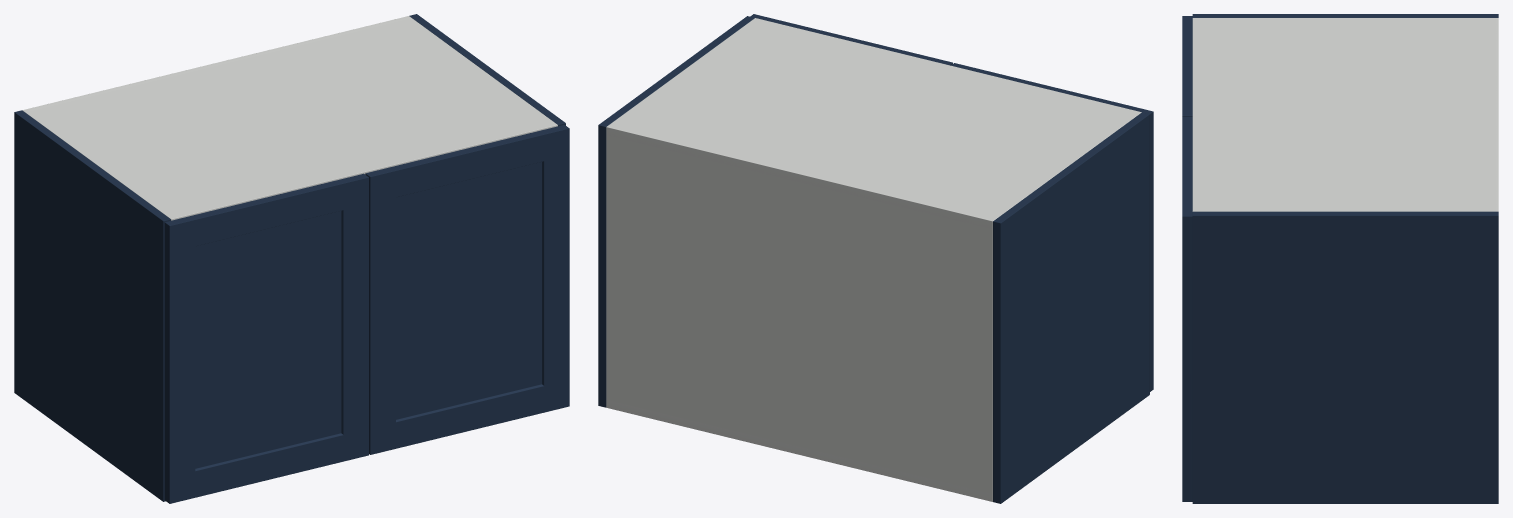
The model's file is oppein-pb-bss-w362424.glb.
3 renders of one model, left to right at view 1: azimuth 30°, elevation 25°; view 2: azimuth 150°, elevation 25°; view 3: azimuth 270°, elevation 25°, orthographic. The views are drawn at different scales.
Visible parts, largest first — view 1: Door, Door.001, Cabinet top, Cabinet side, Cabinet side.001, Cabinet back; view 2: Cabinet back, Cabinet top, Cabinet side, Cabinet side.001, Cabinet bottom, Door, Door.001; view 3: Cabinet side.001, Cabinet top, Door.001, Cabinet side, Cabinet back, Door.
Part boxes in pixels (box(x1,y1,x2,y2)): Door: box(164, 173, 368, 503); Door.001: box(365, 125, 569, 454); Cabinet top: box(22, 18, 557, 220); Cabinet side: box(14, 110, 170, 501); Cabinet side.001: box(409, 14, 565, 126); Cabinet back: box(23, 16, 411, 111); Cabinet back: box(606, 125, 995, 501); Cabinet top: box(606, 18, 1141, 228); Cabinet side: box(993, 112, 1149, 503); Cabinet side.001: box(598, 16, 754, 407); Cabinet bottom: box(606, 400, 992, 501); Door: box(951, 63, 1153, 391); Door.001: box(750, 14, 952, 65); Cabinet side.001: box(1192, 211, 1498, 503); Cabinet top: box(1192, 18, 1498, 211); Door.001: box(1182, 116, 1192, 501); Cabinet side: box(1192, 14, 1498, 17); Cabinet back: box(1493, 18, 1498, 211); Door: box(1182, 16, 1192, 116).
Bounding box in the file's own units: 0.9144 × 0.6096 × 0.6064.
